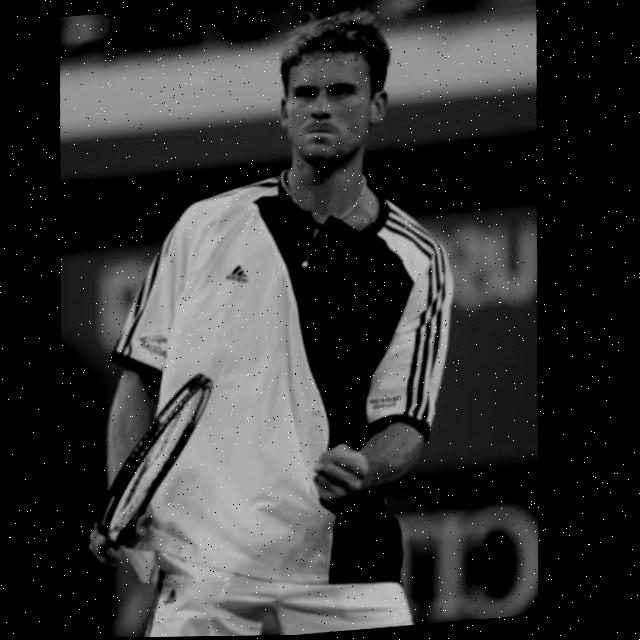face: (261, 9, 392, 177)
